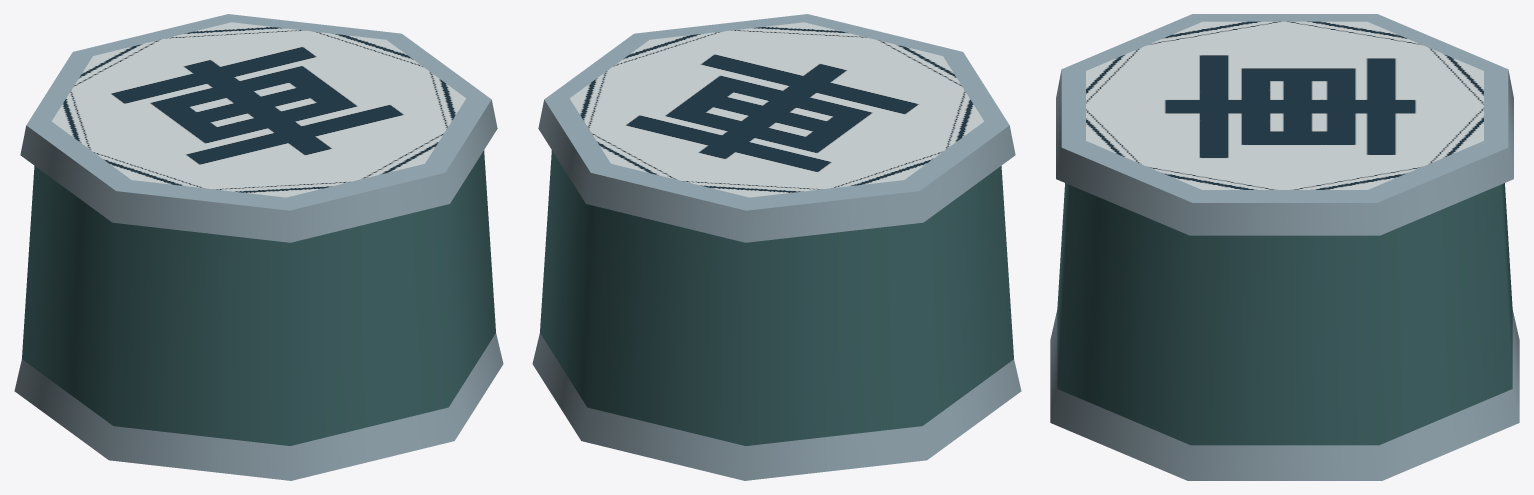
File: Blue5.glb
3 views of the same model, side by side, from view 1: azimuth 30°, elevation 25°; view 2: azimuth 150°, elevation 25°; view 3: azimuth 270°, elevation 25° (orthographic). The views are drawn at different scales.
Parts seen in each view (by area): view 1: Blue5; view 2: Blue5; view 3: Blue5.
Part boxes in pixels (x1,y1,x2,y2): Blue5: (14, 14, 503, 480); Blue5: (532, 14, 1021, 480); Blue5: (1050, 14, 1519, 480).
Size of the model in its own units: 0.7668 by 0.497 by 0.7668.
3 materials, 1 textured.
